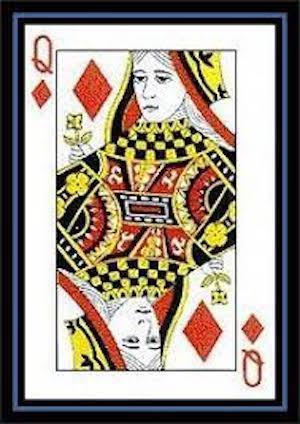QueenOfDiamonds: (15, 15, 285, 411)
